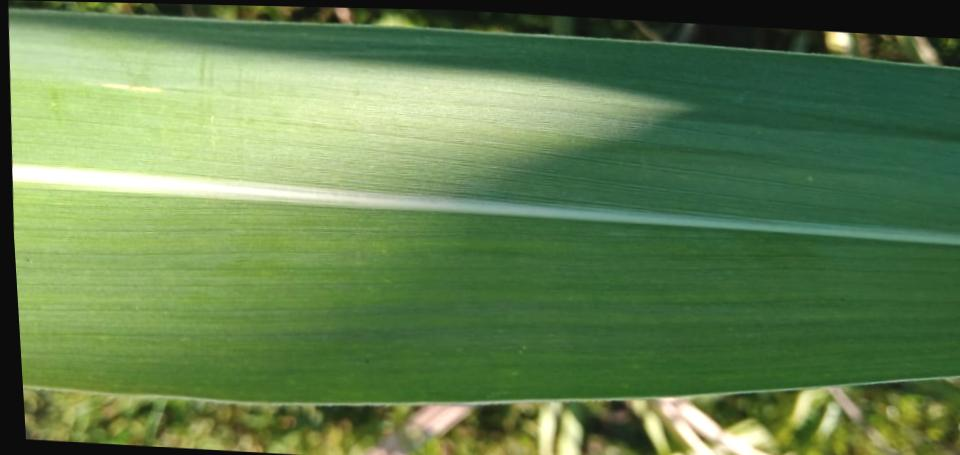Healthy: (8, 9, 960, 403)
